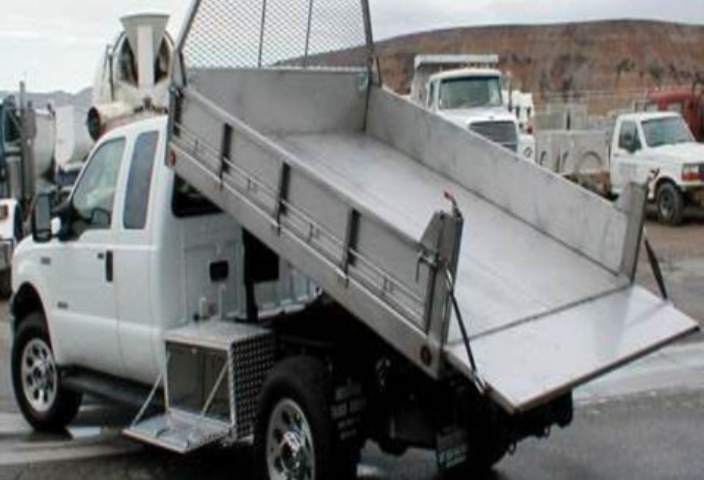industrial: (9, 23, 687, 480)
truck: (384, 41, 551, 202), (544, 76, 704, 231)
